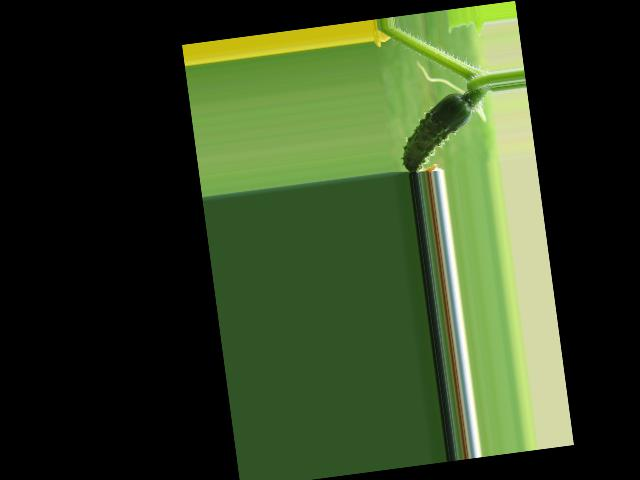cucumber: (393, 90, 477, 172)
